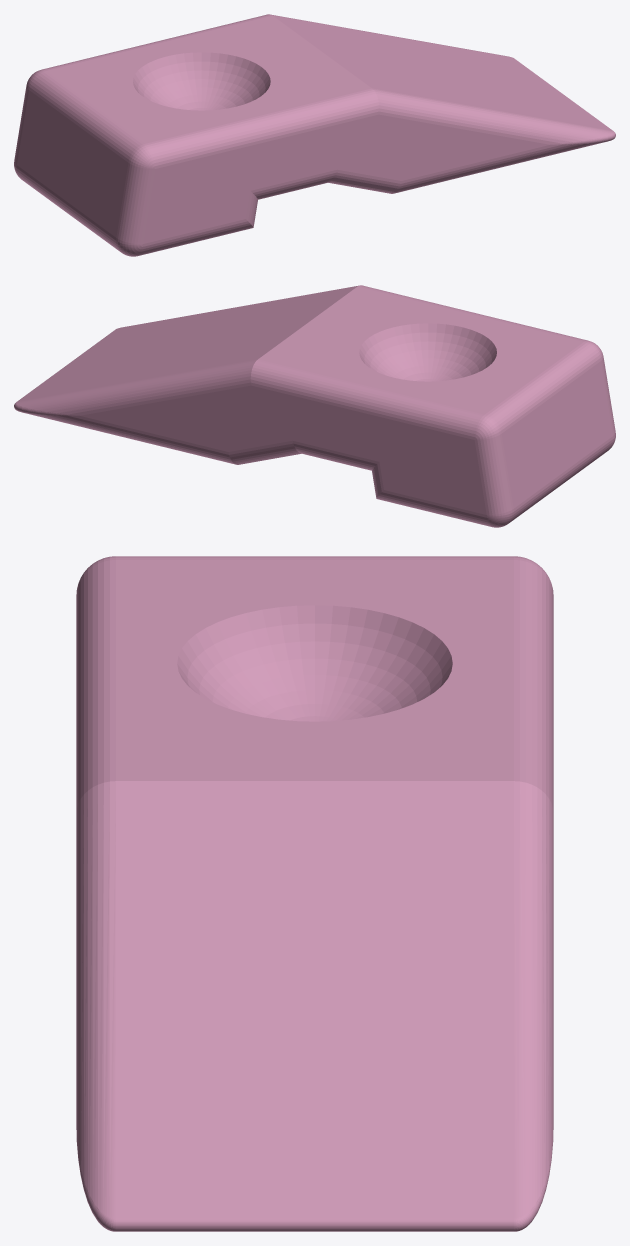
File: case-04_lib00007.glb
The picture shows the model from 3 angles, top to bottom: view 1: azimuth 30°, elevation 25°; view 2: azimuth 150°, elevation 25°; view 3: azimuth 270°, elevation 25°; orthographic projection. The views are drawn at different scales.
Parts seen in each view (by area): view 1: lib00007; view 2: lib00007; view 3: lib00007.
Boxes of the visible parts, x1,y1,x2,y2 form: lib00007: (14,14,615,256); lib00007: (14,285,615,527); lib00007: (76,556,553,1231).
Size of the model in its own units: 78 by 16.15 by 32.31.
